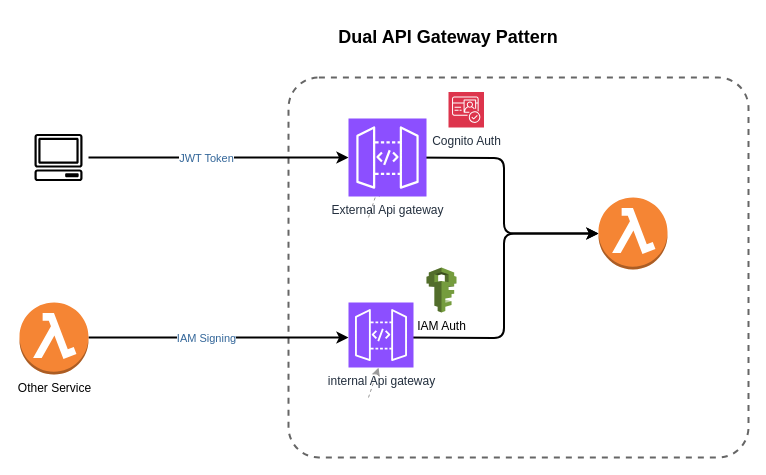
This 766x475 diagram has some shape labels left out. The shapes that lost their labels are listed below. From the top down, each one's box as (x1, y1, x2, y2) in pixels, then its label:
(28, 126, 88, 188): Frontend
(598, 196, 668, 270): Lambda handler
(287, 76, 749, 458): Service
